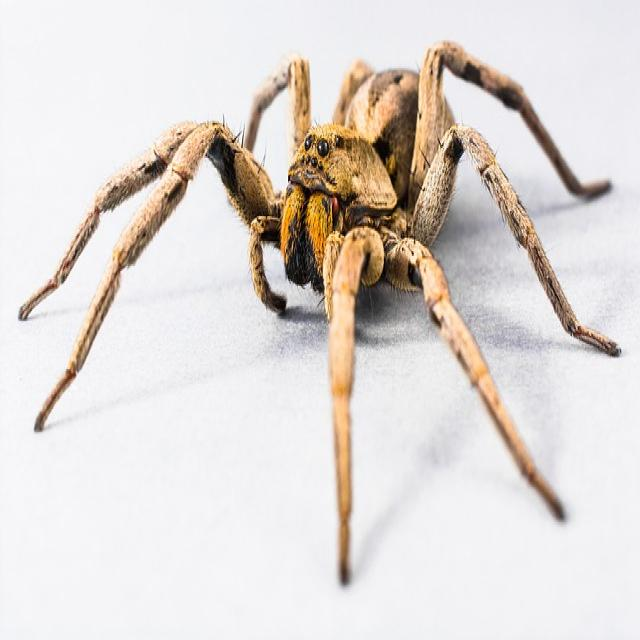spyder: (19, 42, 619, 583)
